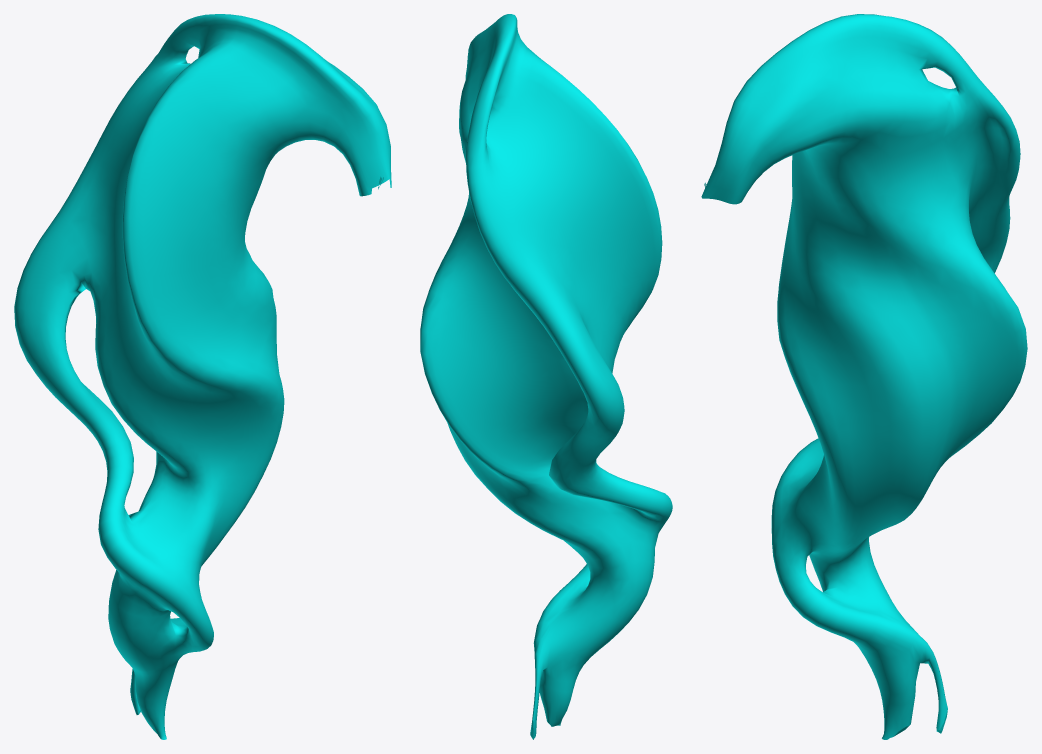
File: ponytail_low -.fbx
3 views of the same model, side by side, from view 1: azimuth 30°, elevation 25°; view 2: azimuth 150°, elevation 25°; view 3: azimuth 270°, elevation 25° (orthographic). The views are drawn at different scales.
Visible parts, largest first — view 1: ponytail_low; view 2: ponytail_low; view 3: ponytail_low.
Part boxes in pixels (left/top/right/bottom): ponytail_low: left=14, top=14, right=391, bottom=739; ponytail_low: left=420, top=14, right=672, bottom=739; ponytail_low: left=701, top=14, right=1027, bottom=739.
Size of the model in its own units: 0.4452 by 1.18 by 0.461.
